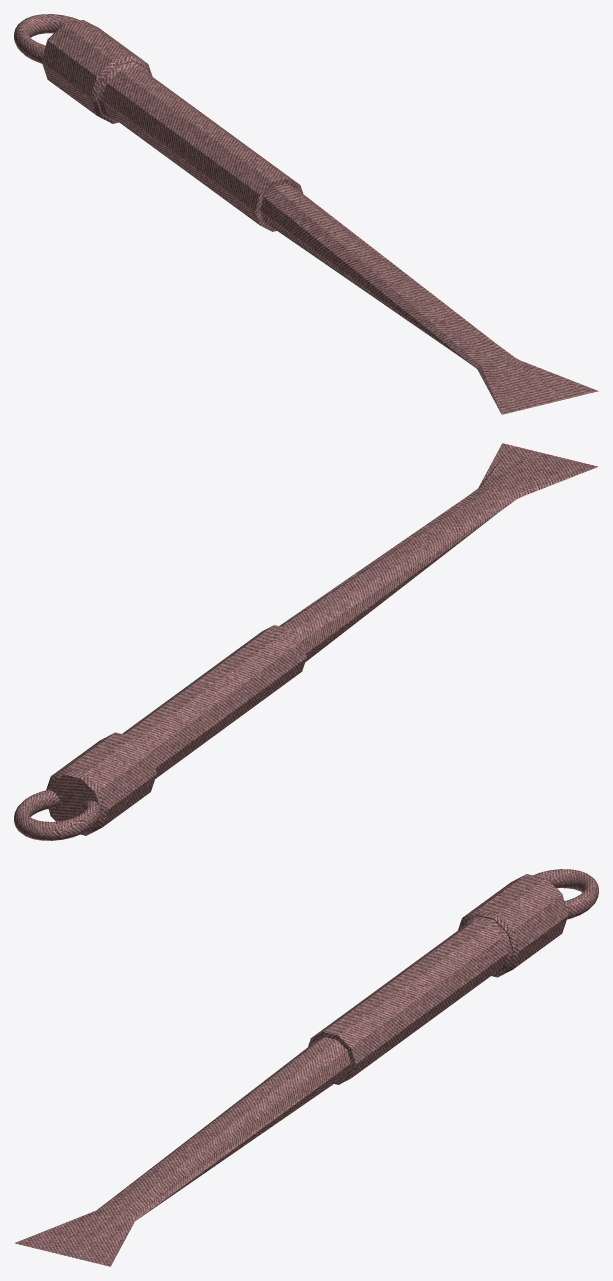
The model's file is Fusta +18.fbx.
3 renders of one model, top to bottom at view 1: azimuth 30°, elevation 25°; view 2: azimuth 150°, elevation 25°; view 3: azimuth 330°, elevation 25°, orthographic.
Visible parts, largest first — view 1: Cylinder001, Torus001; view 2: Cylinder001, Torus001; view 3: Cylinder001, Torus001.
Part boxes in pixels (x1,y1,x2,y2): Cylinder001: (41,20,598,414); Torus001: (14,14,79,63); Cylinder001: (46,443,598,835); Torus001: (14,790,100,840); Cylinder001: (14,874,568,1266); Torus001: (533,869,598,919).
Bounding box in the file's own units: 11.16 × 6.95 × 103.
